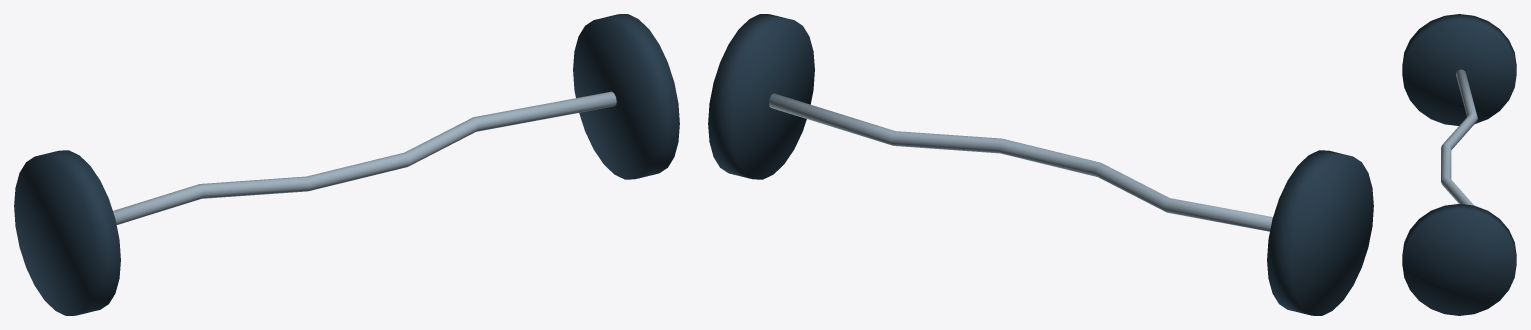
The model's file is ez_bar_a_skullcrusher.glb.
The picture shows the model from 3 angles, left to right: view 1: azimuth 30°, elevation 25°; view 2: azimuth 150°, elevation 25°; view 3: azimuth 270°, elevation 25°; orthographic projection. The views are drawn at different scales.
Visible parts, largest first — view 1: plates, bent_shaft; view 2: plates, bent_shaft; view 3: plates, bent_shaft.
Boxes of the visible parts, box(x1,y1,x2,y2) form: plates: box(14, 14, 679, 315); bent_shaft: box(113, 91, 616, 224); plates: box(708, 14, 1373, 315); bent_shaft: box(769, 93, 1272, 231); plates: box(1402, 14, 1516, 315); bent_shaft: box(1441, 69, 1477, 205).
Bounding box in the file's own units: 1.07 × 0.26 × 0.26.
